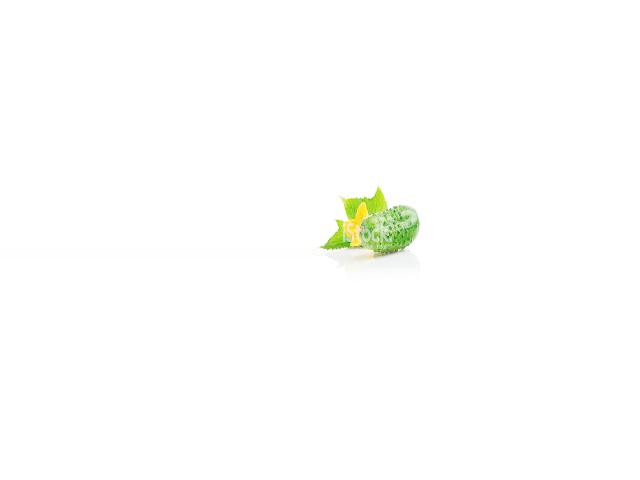cucumber: (360, 205, 420, 253)
